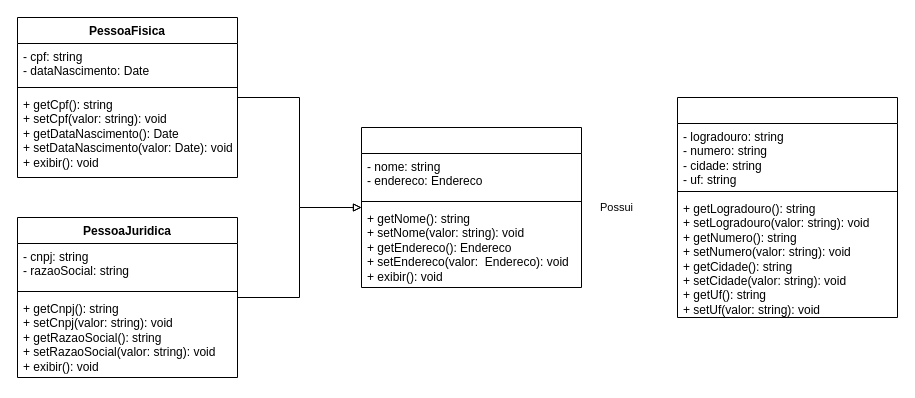
Image size: 915x398. Some labels were removed from this diagram. The box of each missing label's shape, as (x1, y1, x2, y2) in pixels:
Endereco: (676, 96, 898, 318)
Pessoa: (360, 126, 582, 288)
